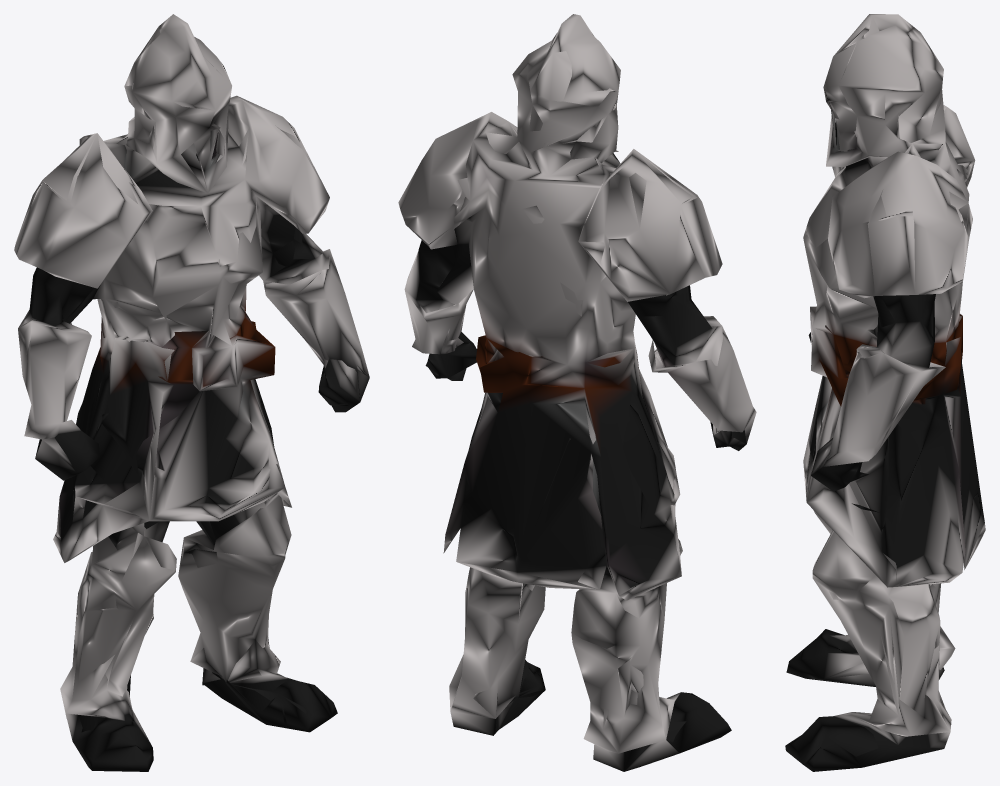
The model's file is gen3d-armored-knight-lod0.glb.
3 renders of one model, left to right at view 1: azimuth 30°, elevation 25°; view 2: azimuth 150°, elevation 25°; view 3: azimuth 270°, elevation 25°, orthographic.
Parts seen in each view (by area): view 1: part_0; view 2: part_0; view 3: part_0.
Boxes of the visible parts, x1,y1,x2,y2 form: part_0: (14,14,369,771); part_0: (398,14,756,771); part_0: (785,14,985,771).
Size of the model in its own units: 0.4895 by 0.9996 by 0.26.
